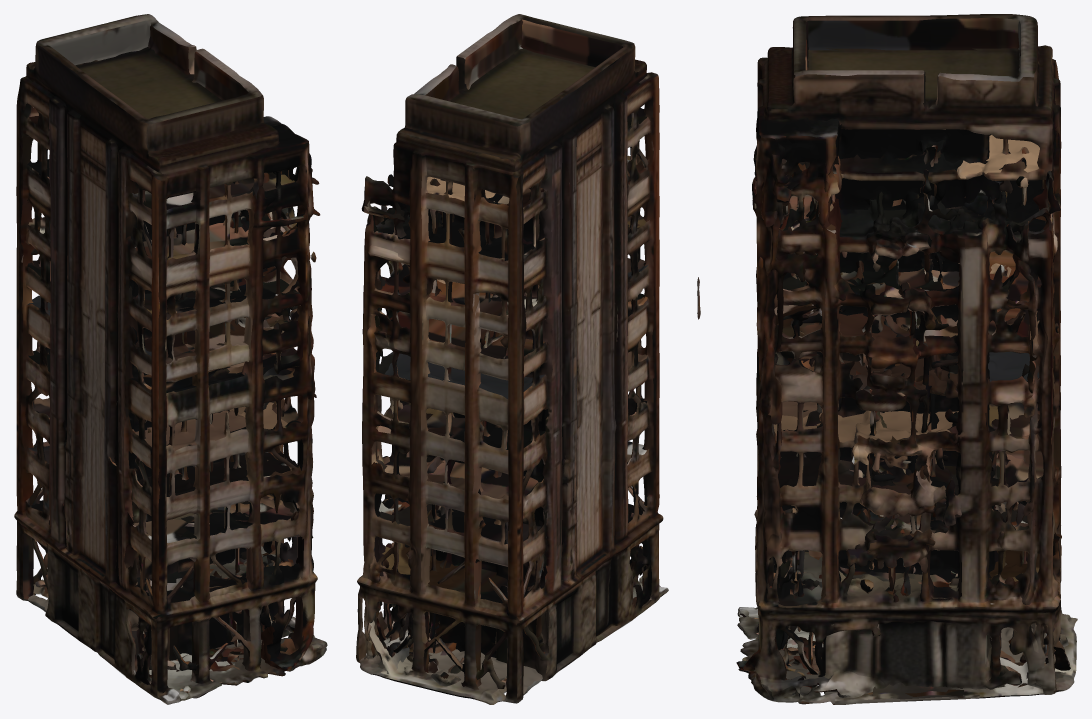
The model's file is tower-f213242edc52.glb.
The picture shows the model from 3 angles, left to right: view 1: azimuth 30°, elevation 25°; view 2: azimuth 150°, elevation 25°; view 3: azimuth 270°, elevation 25°; orthographic projection. The views are drawn at different scales.
Parts seen in each view (by area): view 1: tmpqxfbdqw5.ply; view 2: tmpqxfbdqw5.ply; view 3: tmpqxfbdqw5.ply.
Part boxes in pixels (x1=…): tmpqxfbdqw5.ply: x1=14, y1=14, x2=327, y2=704; tmpqxfbdqw5.ply: x1=356, y1=14, x2=668, y2=704; tmpqxfbdqw5.ply: x1=697, y1=14, x2=1077, y2=704.
Bounding box in the file's own units: 0.6908 × 1.99 × 1.14.
Materials: 1 (1 with a texture image).
